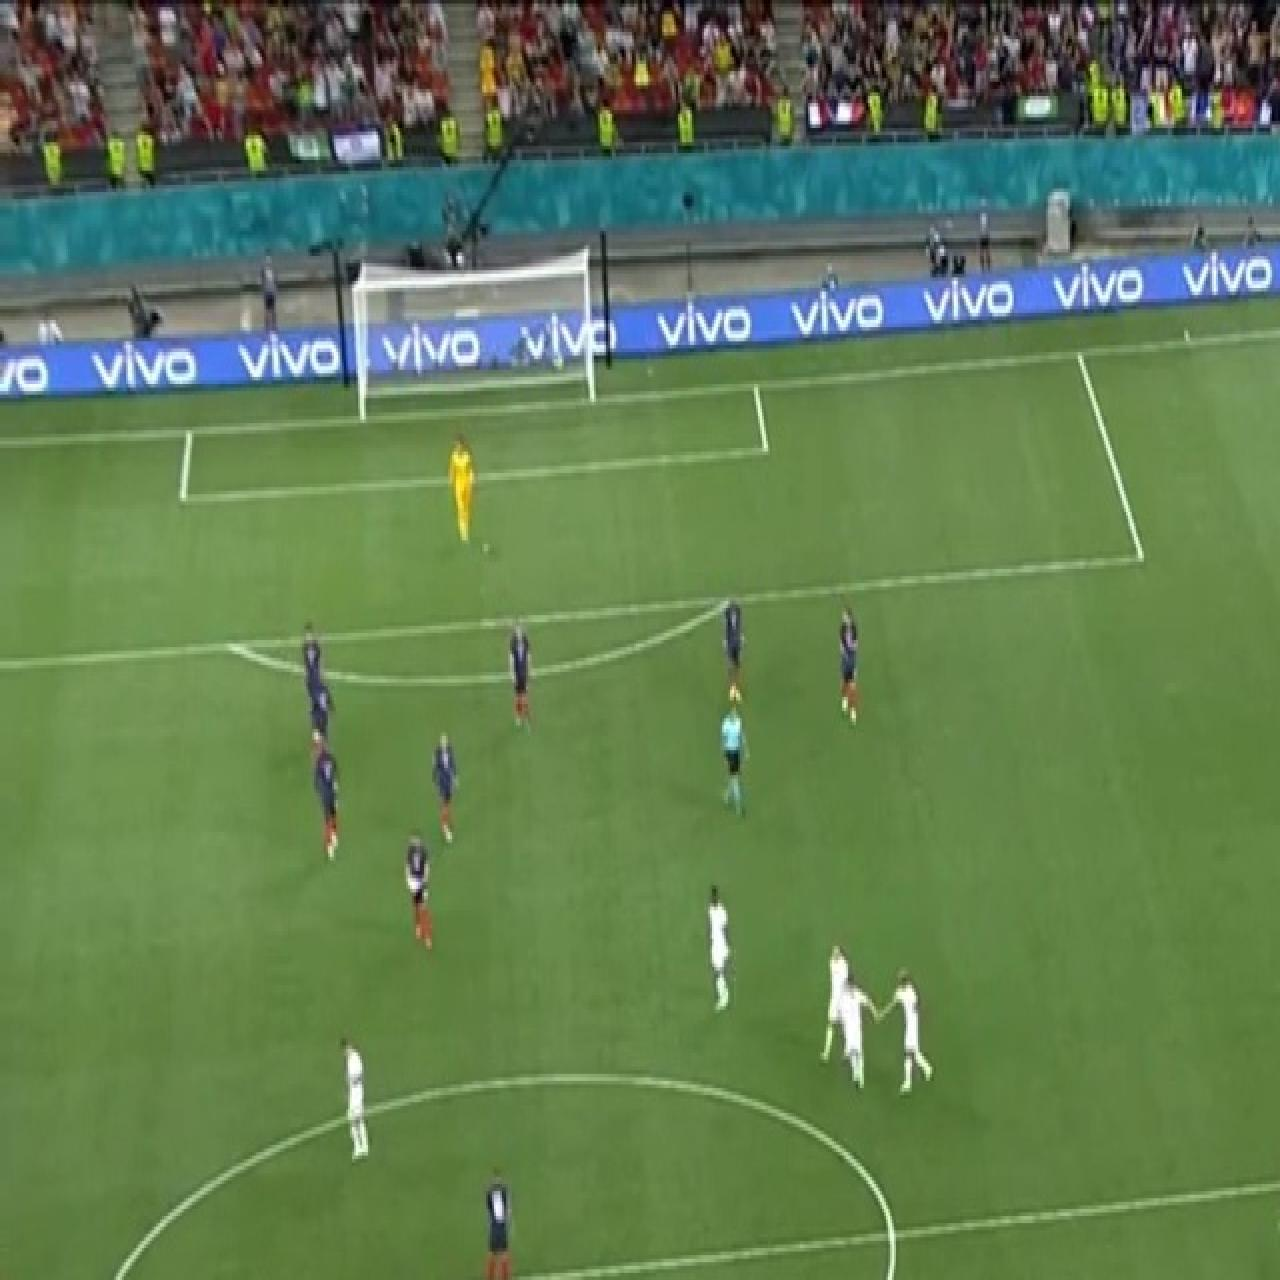football: (880, 965, 934, 1100), (836, 973, 879, 1095), (337, 1035, 372, 1165), (478, 1162, 514, 1280), (818, 941, 852, 1065), (402, 828, 435, 954), (705, 883, 736, 1016), (428, 729, 462, 848), (718, 703, 751, 819), (311, 739, 341, 863), (447, 433, 478, 547), (507, 619, 535, 741), (720, 590, 747, 708), (836, 606, 860, 728), (310, 676, 334, 764), (299, 623, 324, 688), (1276, 1145, 1280, 1280)
